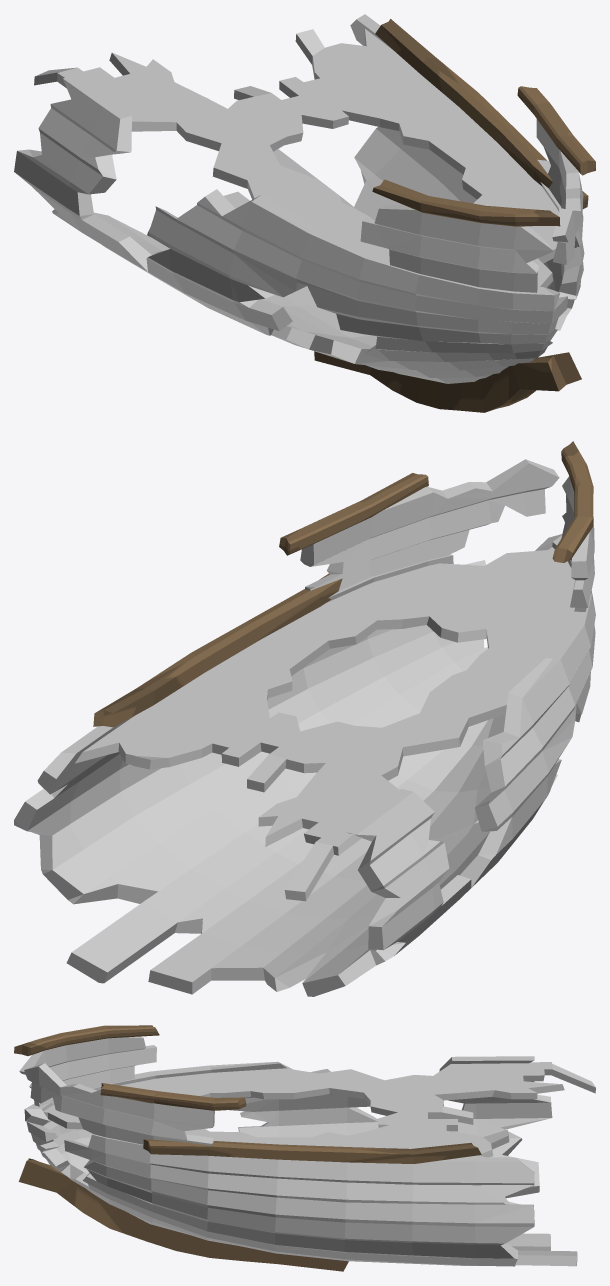
Rendered from SM_Prop_Wreck_Small_Front_01.fbx.
The picture shows the model from 3 angles, top to bottom: view 1: azimuth 30°, elevation 25°; view 2: azimuth 150°, elevation 25°; view 3: azimuth 270°, elevation 25°; orthographic projection. The views are drawn at different scales.
Parts seen in each view (by area): view 1: SM_Prop_Wreck_Small_Front_01; view 2: SM_Prop_Wreck_Small_Front_01; view 3: SM_Prop_Wreck_Small_Front_01.
Part boxes in pixels (x1=…): SM_Prop_Wreck_Small_Front_01: x1=14, y1=14, x2=595, y2=412; SM_Prop_Wreck_Small_Front_01: x1=14, y1=441, x2=595, y2=996; SM_Prop_Wreck_Small_Front_01: x1=14, y1=1025, x2=595, y2=1271.
Bounding box in the file's own units: 857 × 681 × 1598.
